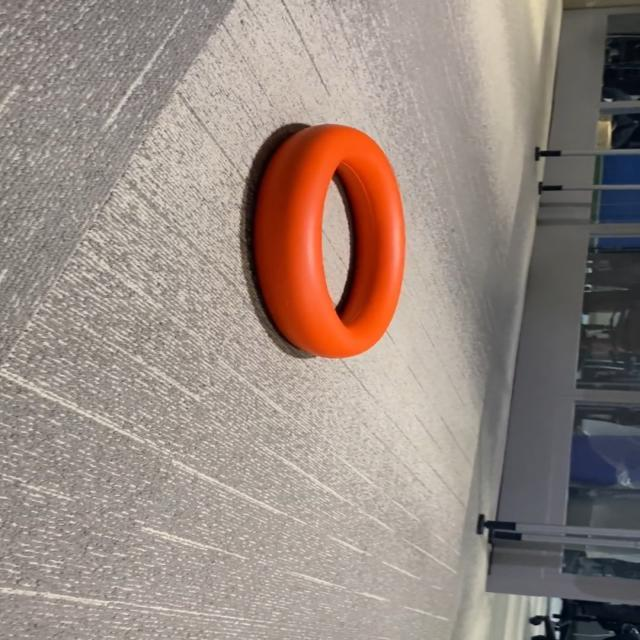note: (249, 118, 407, 376)
